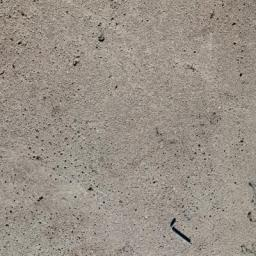FOD: (167, 217, 195, 247)
